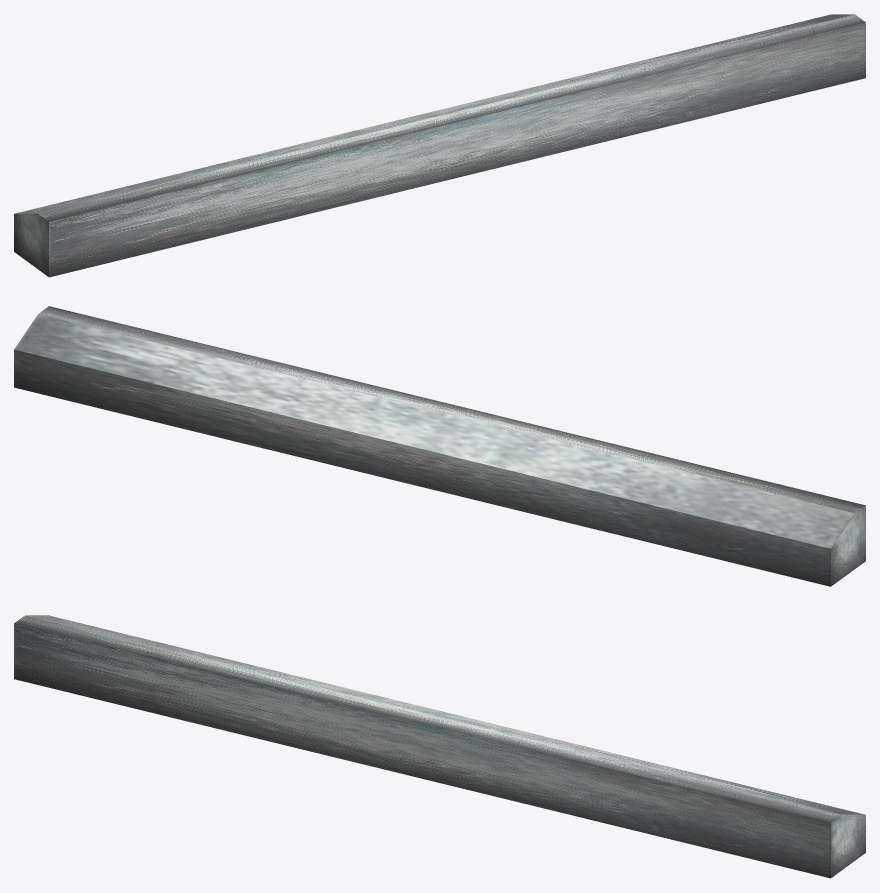
Rendered from bar1.FBX.
3 views of the same model, one above another, from view 1: azimuth 30°, elevation 25°; view 2: azimuth 150°, elevation 25°; view 3: azimuth 330°, elevation 25° (orthographic).
Parts seen in each view (by area): view 1: Box001; view 2: Box001; view 3: Box001.
Part boxes in pixels (left/top/right/bottom): Box001: left=14, top=14, right=865, bottom=277; Box001: left=14, top=306, right=865, bottom=586; Box001: left=14, top=615, right=865, bottom=878.
Size of the model in its own units: 105 by 6.82 by 7.79.
Materials: 1 (1 with a texture image).
